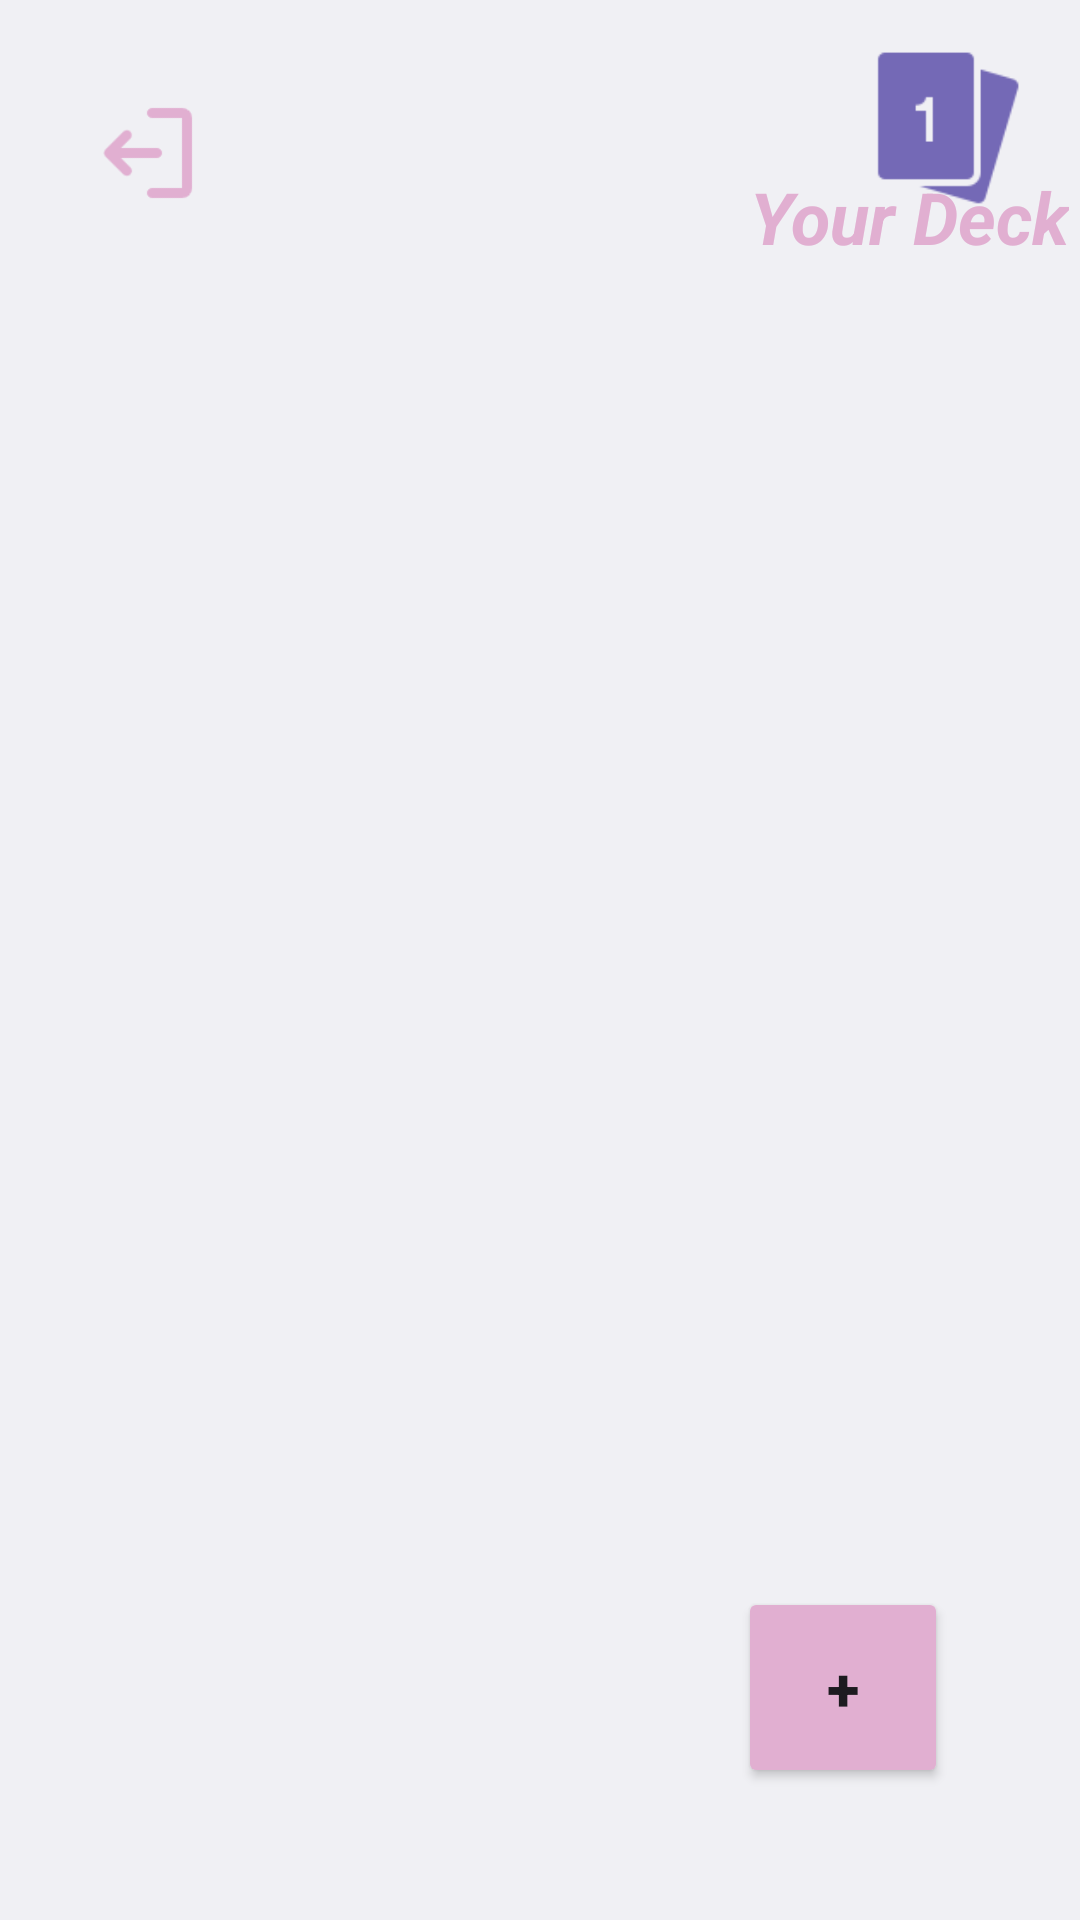

Point at icon controls on the screen. Image size 1080 x 1920, points as [x,y].
card: [926,116]
